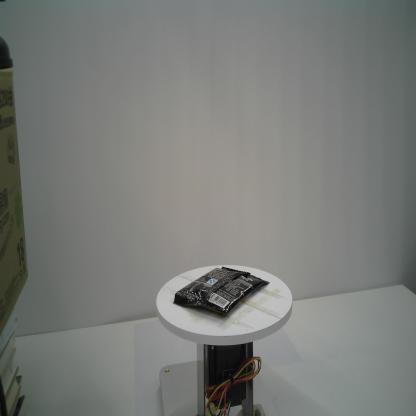Instant Drink: (172, 266, 270, 316)
